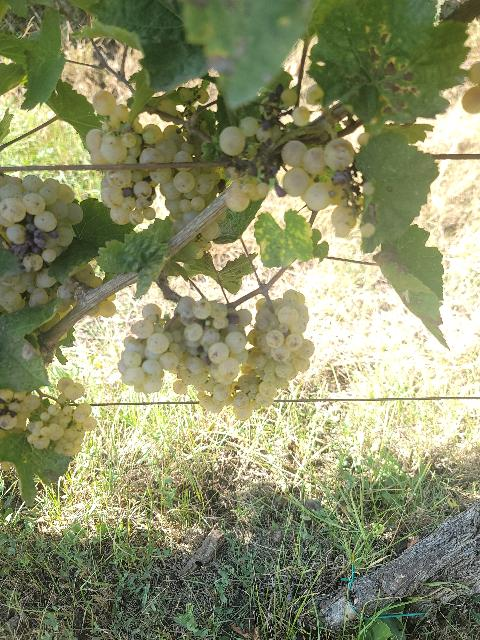grapes: (0, 175, 84, 312), (232, 289, 315, 420), (176, 298, 251, 411), (85, 90, 194, 166), (101, 169, 219, 230), (26, 378, 98, 456), (118, 304, 179, 394)
